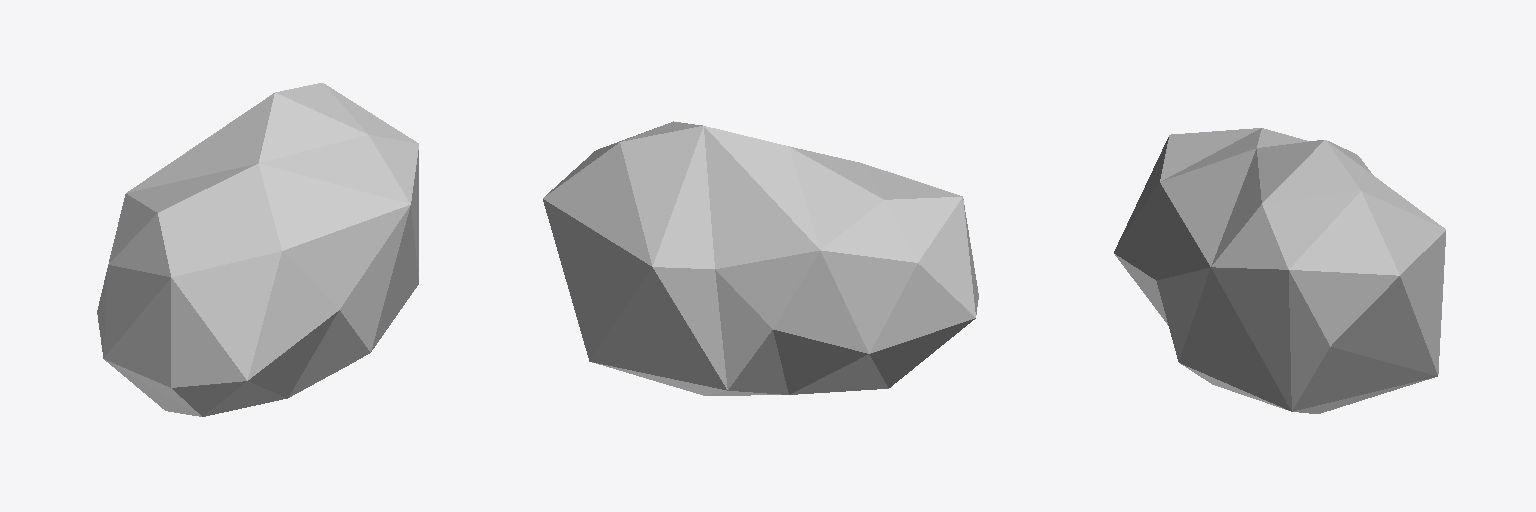
Rendered from island_cloud_2.obj.
3 renders of one model, left to right at view 1: azimuth 30°, elevation 25°; view 2: azimuth 150°, elevation 25°; view 3: azimuth 270°, elevation 25°, orthographic.
Parts seen in each view (by area): view 1: cloud2 clouds island_obj; view 2: cloud2 clouds island_obj; view 3: cloud2 clouds island_obj.
Boxes of the visible parts, x1,y1,x2,y2 form: cloud2 clouds island_obj: [97, 83, 418, 416]; cloud2 clouds island_obj: [543, 121, 978, 395]; cloud2 clouds island_obj: [1114, 128, 1445, 413].
Bounding box in the file's own units: 2.6 × 1.89 × 2.08.